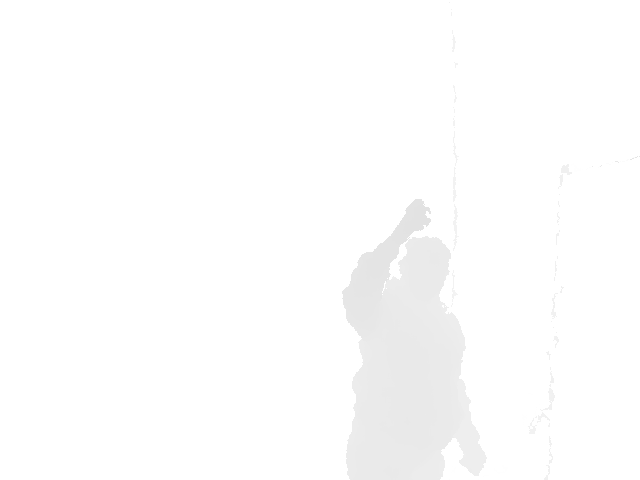hand: (395, 198, 433, 234)
head: (398, 236, 452, 299)
person: (340, 197, 488, 480)
